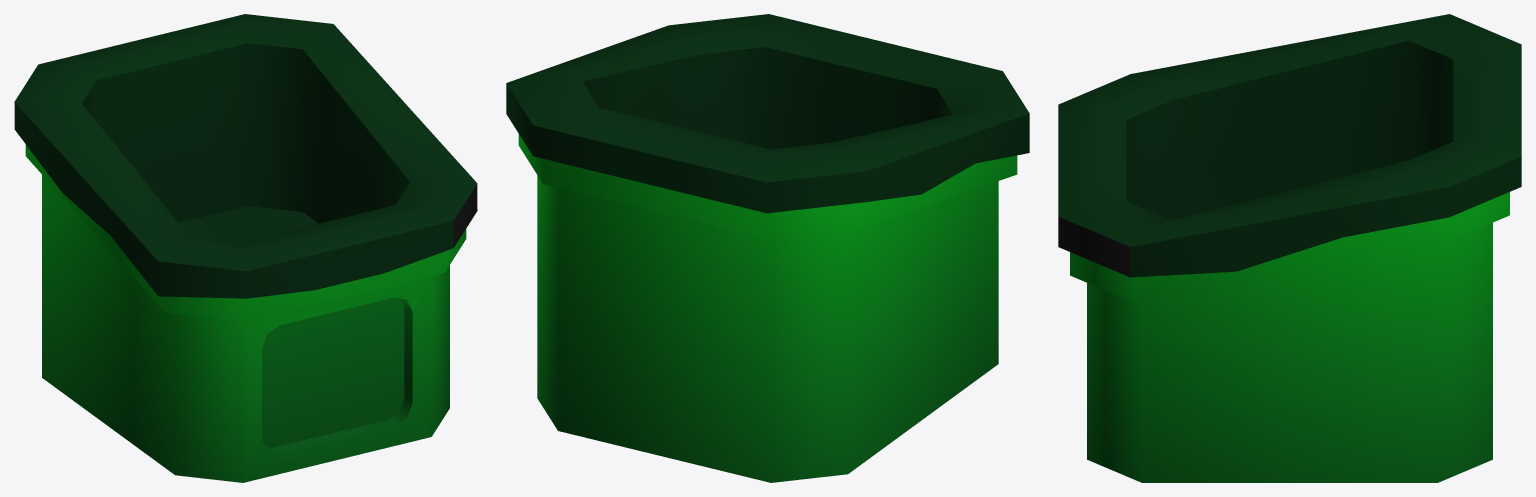
Rendered from Bin_01.fbx.
3 views of the same model, side by side, from view 1: azimuth 30°, elevation 25°; view 2: azimuth 150°, elevation 25°; view 3: azimuth 270°, elevation 25° (orthographic). The views are drawn at different scales.
Parts seen in each view (by area): view 1: Bin_01; view 2: Bin_01; view 3: Bin_01.
Part boxes in pixels (x1,y1,x2,y2): Bin_01: [14, 14, 477, 482]; Bin_01: [506, 14, 1029, 482]; Bin_01: [1058, 14, 1521, 482].
Size of the model in its own units: 74.38 by 63 by 84.16.
